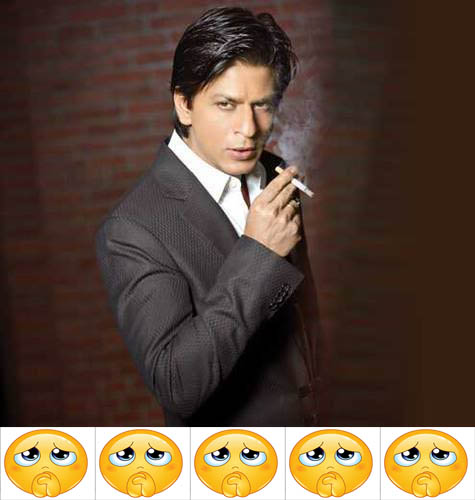cigarette: (271, 163, 314, 197)
